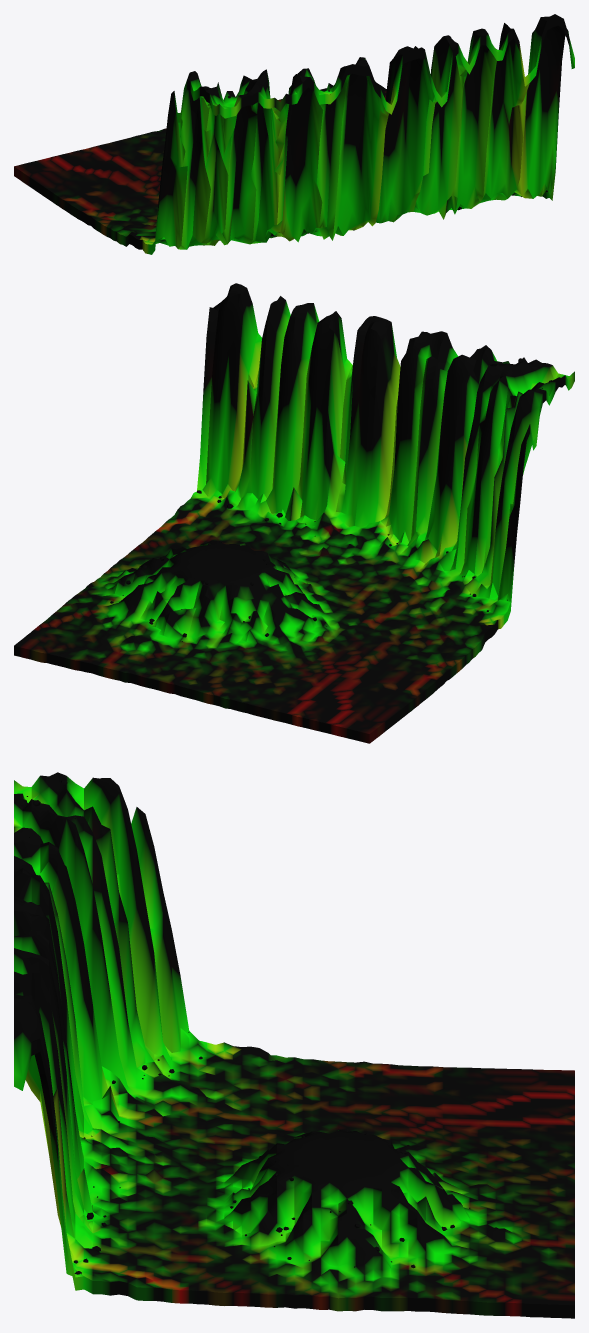
File: Terrain_06_04.fbx
The picture shows the model from 3 angles, top to bottom: view 1: azimuth 30°, elevation 25°; view 2: azimuth 150°, elevation 25°; view 3: azimuth 270°, elevation 25°; orthographic projection. The views are drawn at different scales.
Parts seen in each view (by area): view 1: Terrain_06_04_LOD0; view 2: Terrain_06_04_LOD0; view 3: Terrain_06_04_LOD0.
Part boxes in pixels (x1=…): Terrain_06_04_LOD0: x1=14, y1=14, x2=574, y2=254; Terrain_06_04_LOD0: x1=14, y1=283, x2=574, y2=743; Terrain_06_04_LOD0: x1=14, y1=772, x2=574, y2=1318.
Size of what is drawn, in the model's own units: 384 by 238 by 384.
